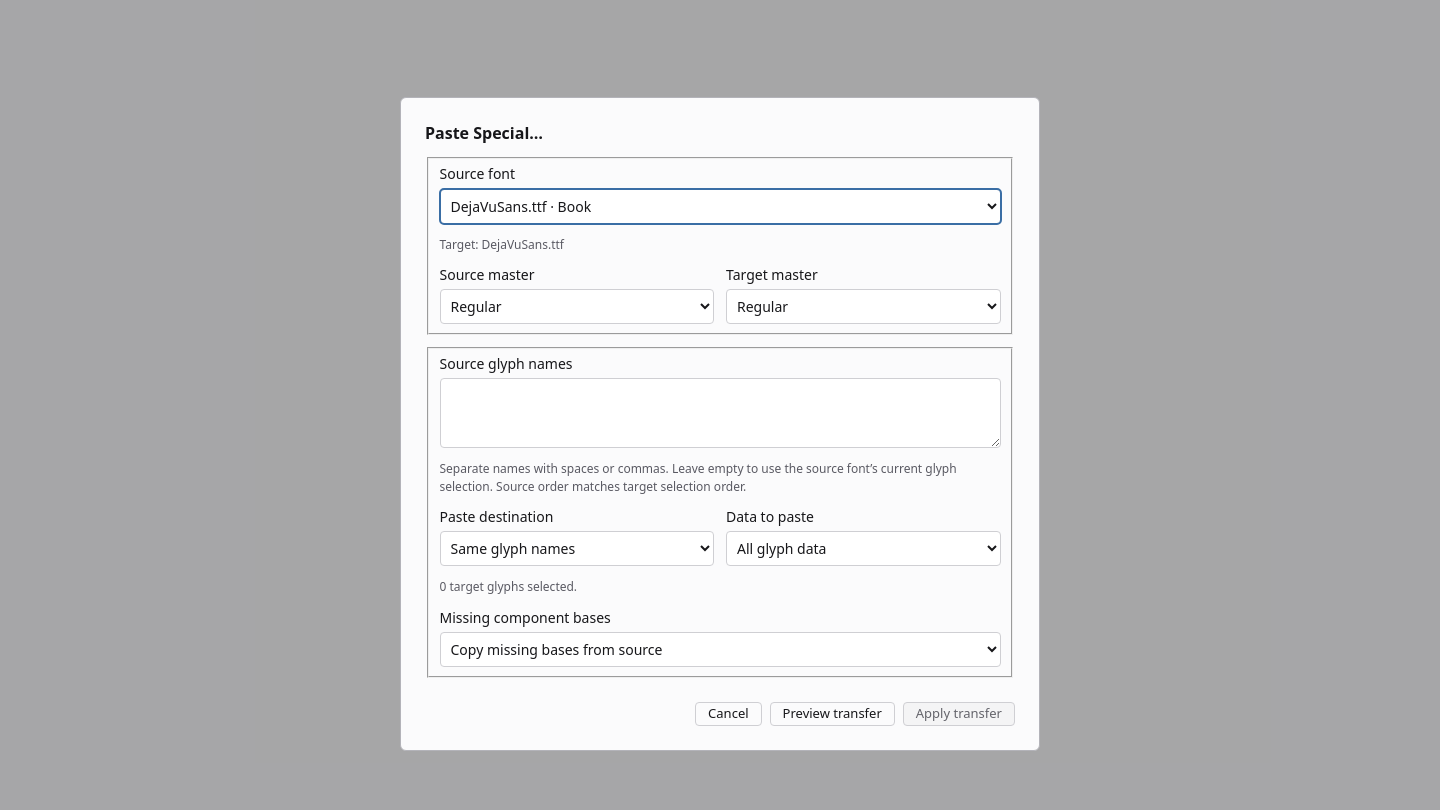
names every placeholder it will create and how to find them again
Select "Create empty, nonexporting placeholders" in the dropdown labelled "Missing component bases": (720, 650) top-left (440, 632), bottom-right (1000, 667)
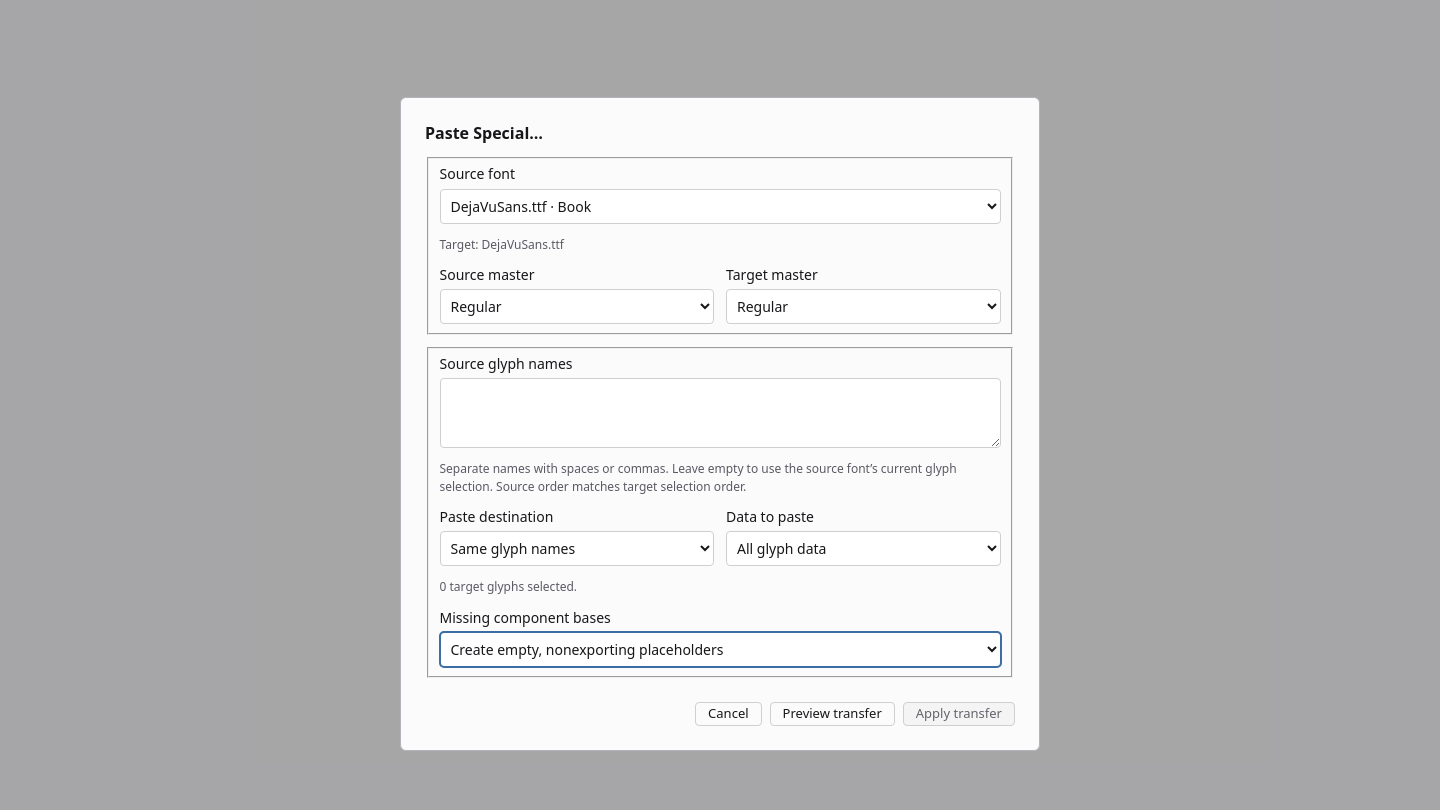
In the text box labelled "Source glyph names": (720, 413) top-left (440, 378), bottom-right (1000, 448), type "aacute"
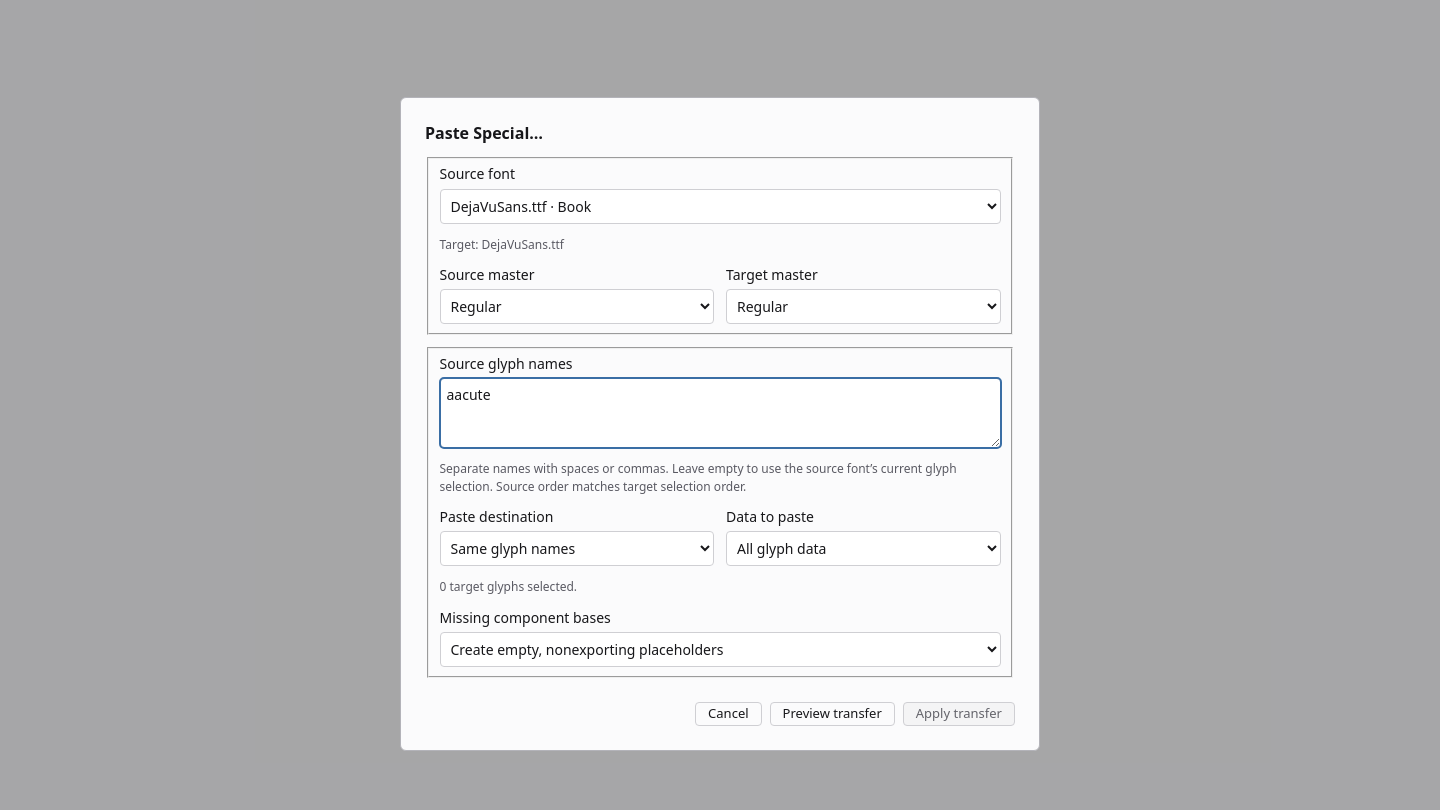
Click the button "Preview transfer": (832, 714) top-left (770, 702), bottom-right (895, 726)
(page scrolled)
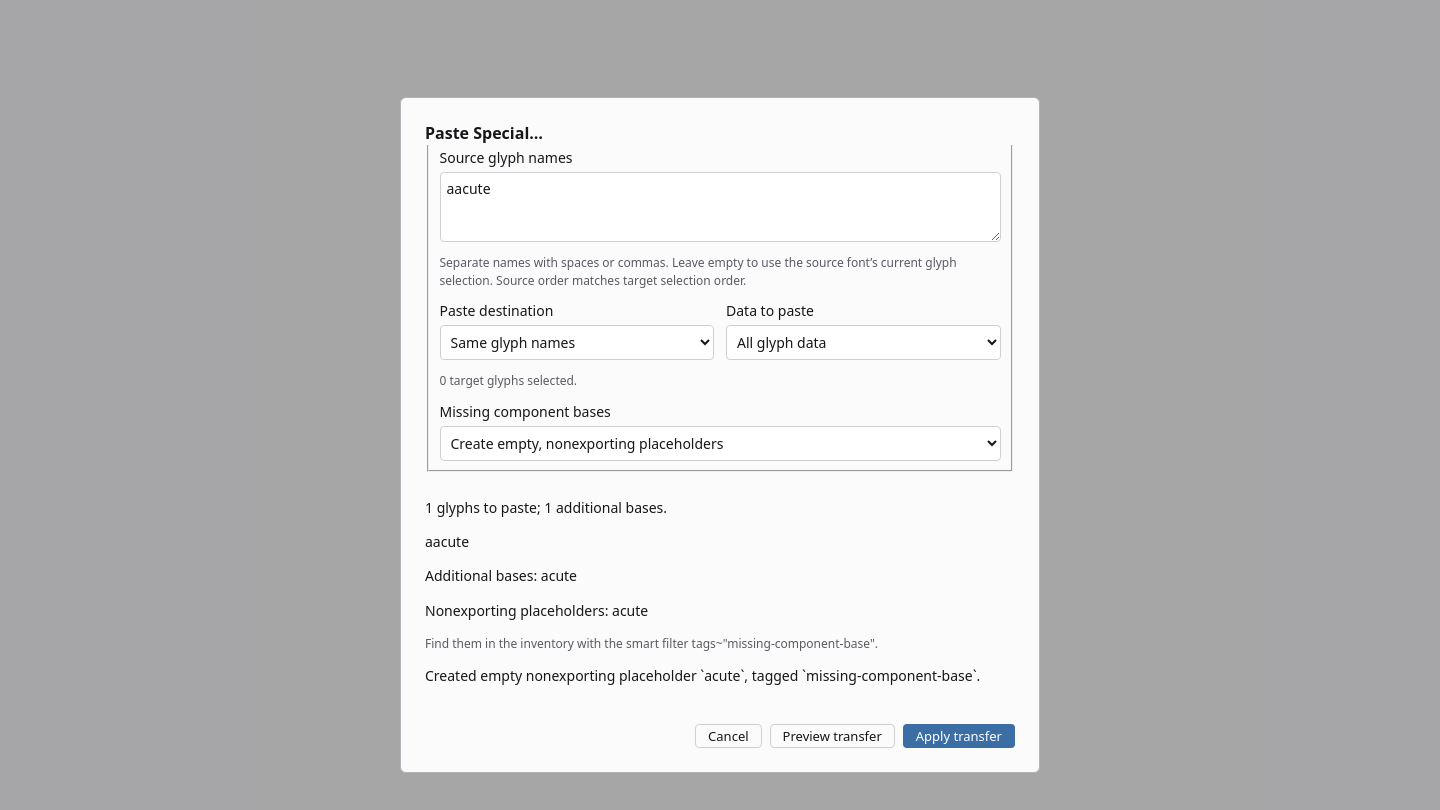
Result: the element named "Transfer review" shows "Nonexporting placeholders: acute" at top-left (425, 601), bottom-right (648, 620)
Result: the element named "Transfer review" shows "tags~\"missing-component-base\"" at top-left (425, 635), bottom-right (878, 652)
